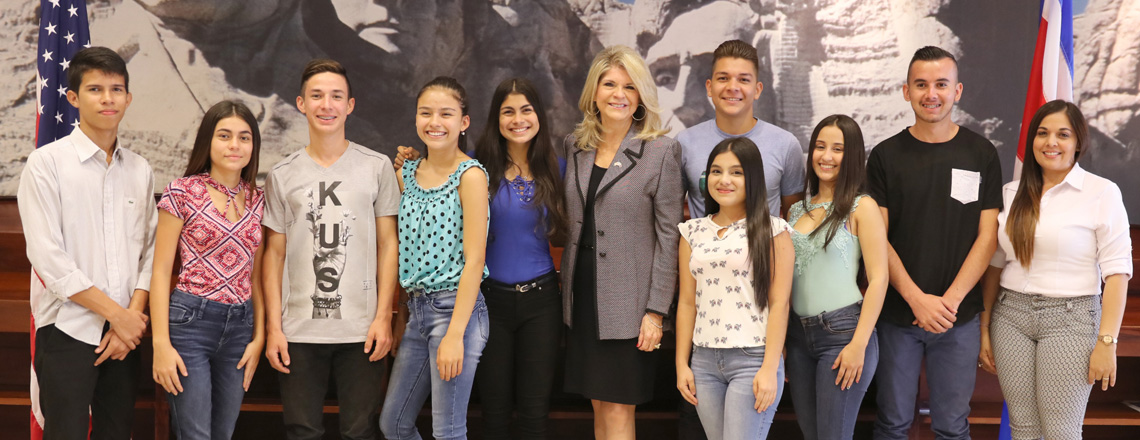person: (869, 36, 1004, 327), (1003, 95, 1126, 360), (42, 56, 182, 262), (577, 45, 670, 286), (787, 110, 887, 322), (483, 74, 581, 286), (281, 64, 404, 232), (677, 138, 785, 327), (163, 87, 276, 247), (395, 73, 482, 245), (682, 47, 785, 187)
